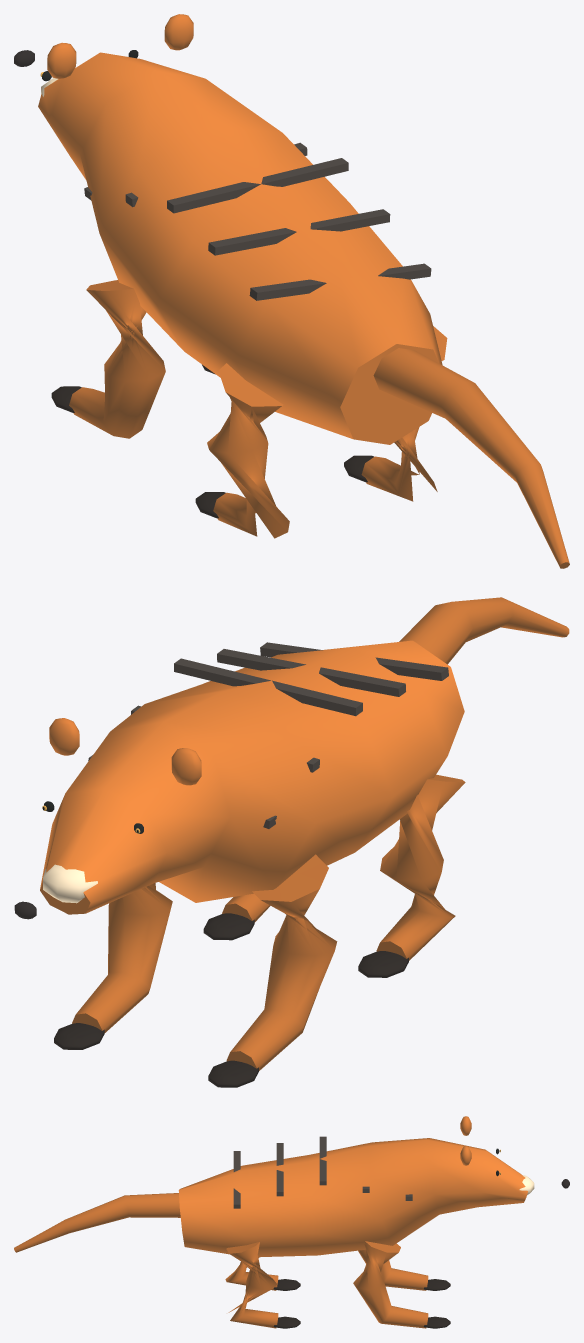
The model's file is tiger_mobile.glb.
3 renders of one model, top to bottom at view 1: azimuth 30°, elevation 25°; view 2: azimuth 150°, elevation 25°; view 3: azimuth 270°, elevation 25°, orthographic. The views are drawn at different scales.
Parts seen in each view (by area): view 1: TigerOrganicBody, Tail, Leg_LF, Leg_LH, Leg_RH, CoatStripe_02, CoatStripe_01, CoatStripe_00, RoundEar2, RoundEar; view 2: TigerOrganicBody, Leg_LF, Leg_LH, Leg_RF, Tail, CoatStripe_02, CoatStripe_01, CoatStripe_00, Muzzle, Paw_LF, Paw_RH, Paw_LH (+4 smaller); view 3: TigerOrganicBody, Tail, Leg_RF, Leg_RH, Leg_LF, Leg_LH, CoatStripe_01, CoatStripe_02, CoatStripe_00.
Part boxes in pixels (box(x1,y1,x2,y2)): TigerOrganicBody: box(38, 52, 442, 444); Tail: box(373, 348, 569, 568); Leg_LF: box(69, 280, 165, 438); Leg_LH: box(207, 363, 289, 538); Leg_RH: box(361, 326, 447, 501); CoatStripe_02: box(167, 158, 348, 213); CoatStripe_01: box(208, 209, 390, 255); CoatStripe_00: box(249, 263, 431, 300); RoundEar2: box(164, 14, 193, 50); RoundEar: box(47, 42, 76, 78); TigerOrganicBody: box(40, 640, 464, 914); Leg_LF: box(226, 854, 337, 1070); Leg_LH: box(376, 774, 465, 960); Leg_RF: box(72, 883, 172, 1032); Tail: box(399, 597, 569, 664); CoatStripe_02: box(174, 658, 362, 716); CoatStripe_01: box(217, 649, 405, 696); CoatStripe_00: box(260, 642, 448, 680); Muzzle: box(43, 864, 97, 903); Paw_LF: box(208, 1060, 258, 1087); Paw_RH: box(203, 913, 254, 940); Paw_LH: box(358, 951, 408, 977); TigerOrganicBody: box(178, 1138, 527, 1257); Tail: box(14, 1193, 180, 1252); Leg_RF: box(353, 1241, 428, 1328); Leg_RH: box(226, 1242, 278, 1328); Leg_LF: box(358, 1249, 428, 1290); Leg_LH: box(225, 1257, 278, 1290); CoatStripe_01: box(276, 1143, 283, 1196); CoatStripe_02: box(319, 1136, 326, 1185); CoatStripe_00: box(233, 1151, 240, 1208).
Size of the model in its own units: 1.6 by 2.36 by 6.69.
